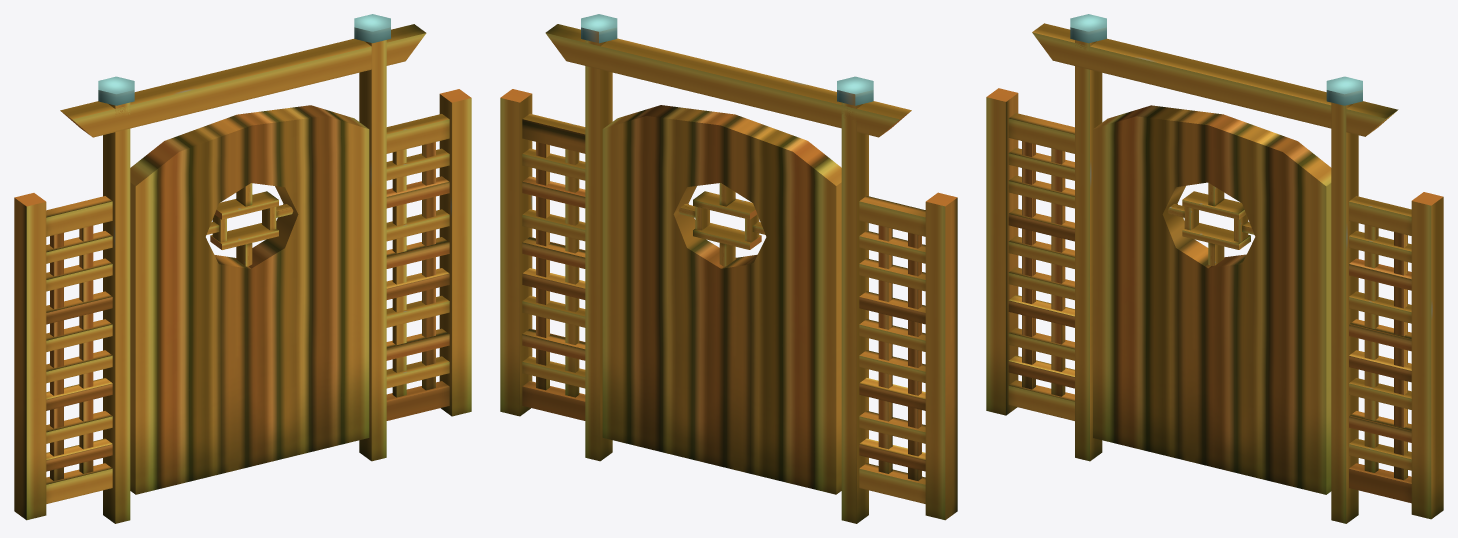
The model's file is door_03.FBX.
3 renders of one model, left to right at view 1: azimuth 30°, elevation 25°; view 2: azimuth 150°, elevation 25°; view 3: azimuth 330°, elevation 25°, orthographic.
Visible parts, largest first — view 1: door_03; view 2: door_03; view 3: door_03.
Boxes of the visible parts, x1,y1,x2,y2 form: door_03: (14, 14, 471, 523); door_03: (500, 14, 957, 523); door_03: (986, 14, 1443, 523).
Size of the model in its own units: 68680 by 63722 by 4884.
